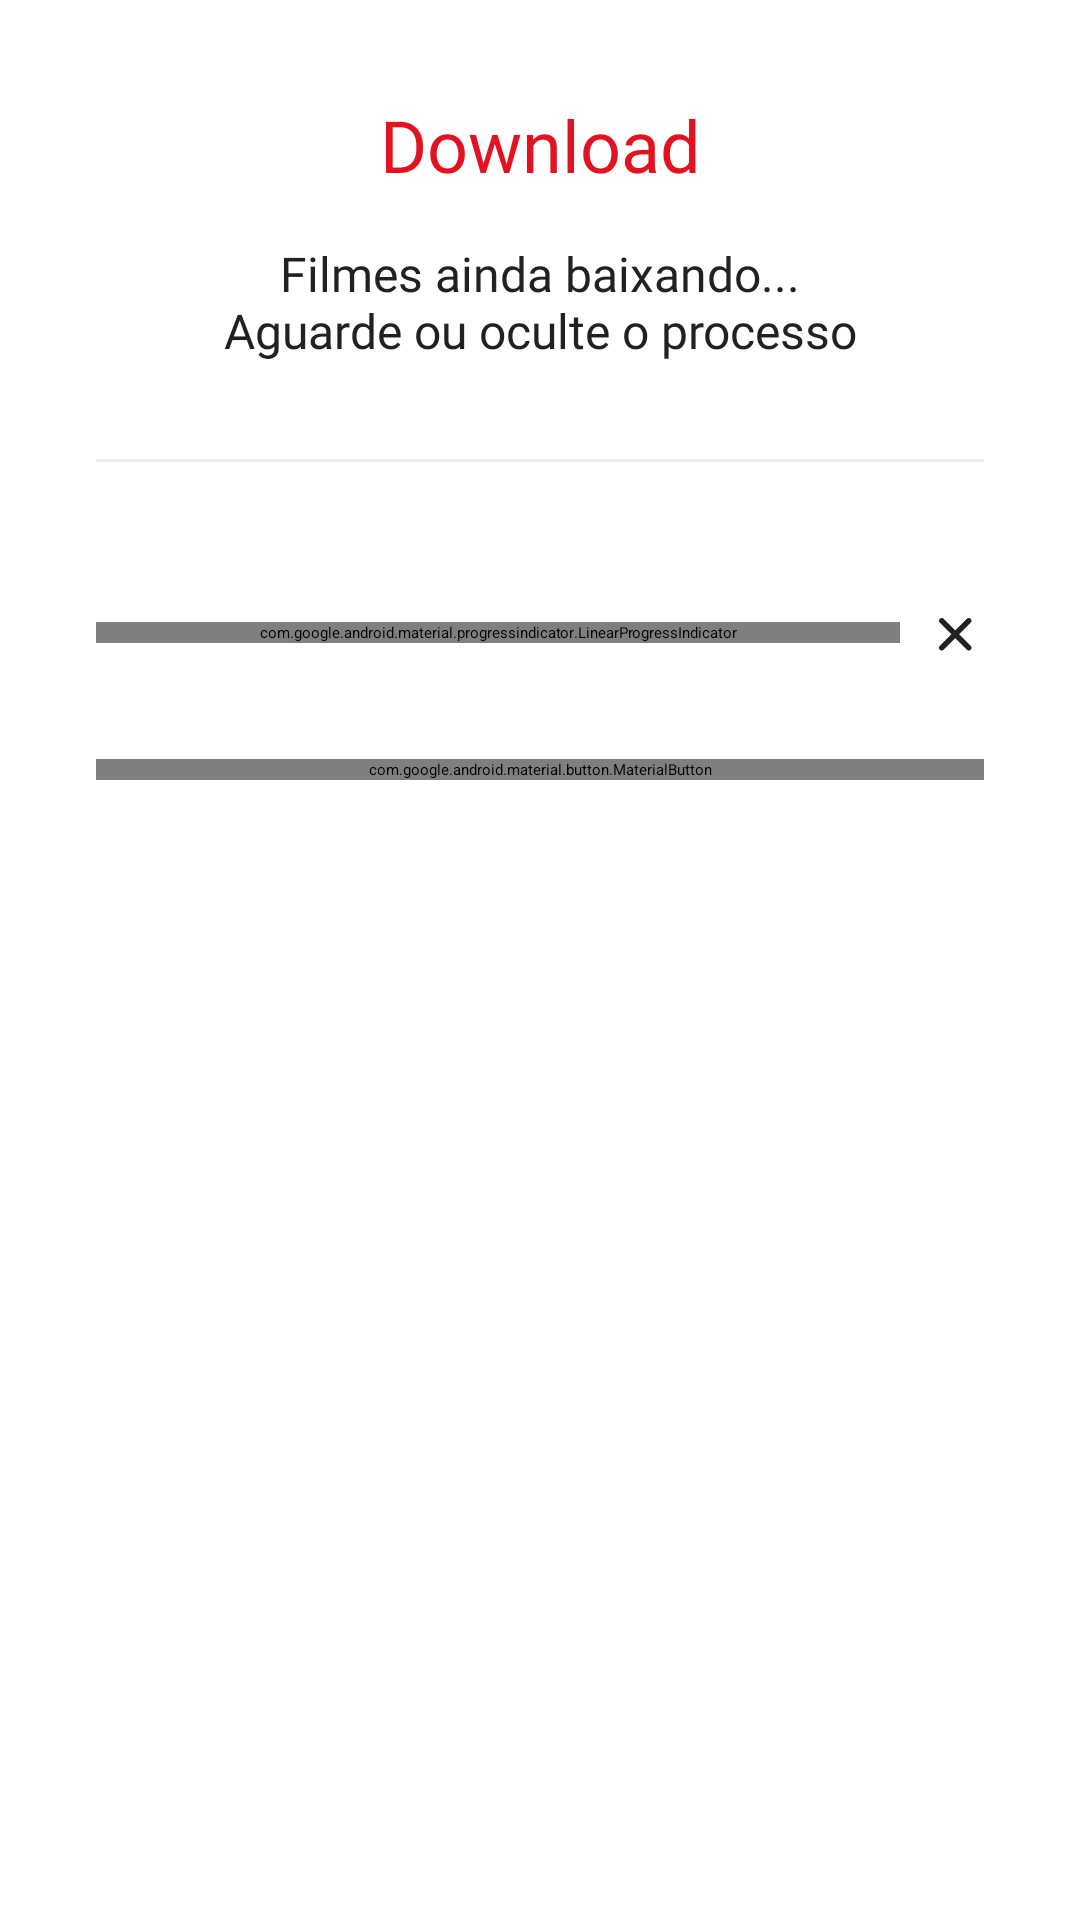

Where icons sit on this 1080×1920 app screen, as (x1, y1, x2, y2):
close: (939, 618, 972, 651)
